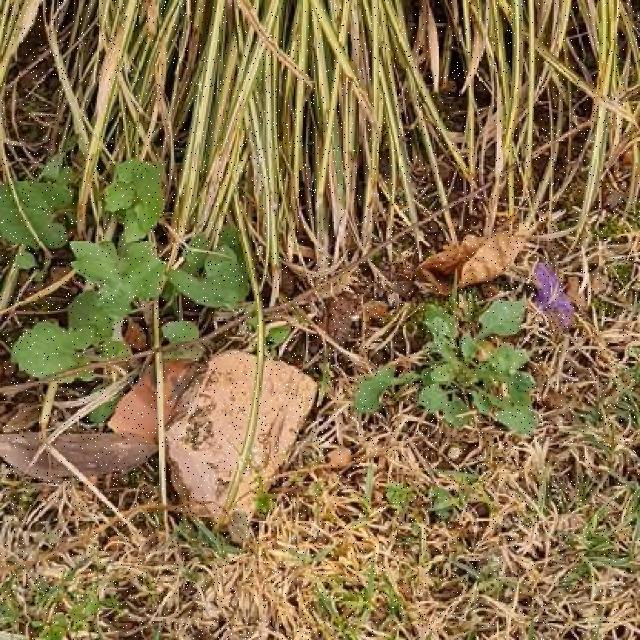weed: (11, 162, 248, 379), (357, 302, 535, 435), (0, 184, 69, 249)
